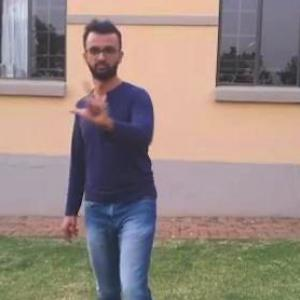land_hand: (69, 74, 121, 134)
